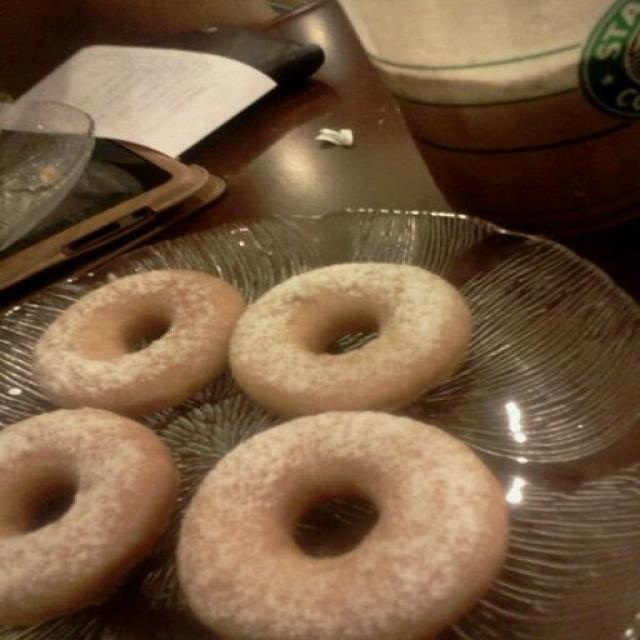Donuts: (10, 268, 515, 632)
